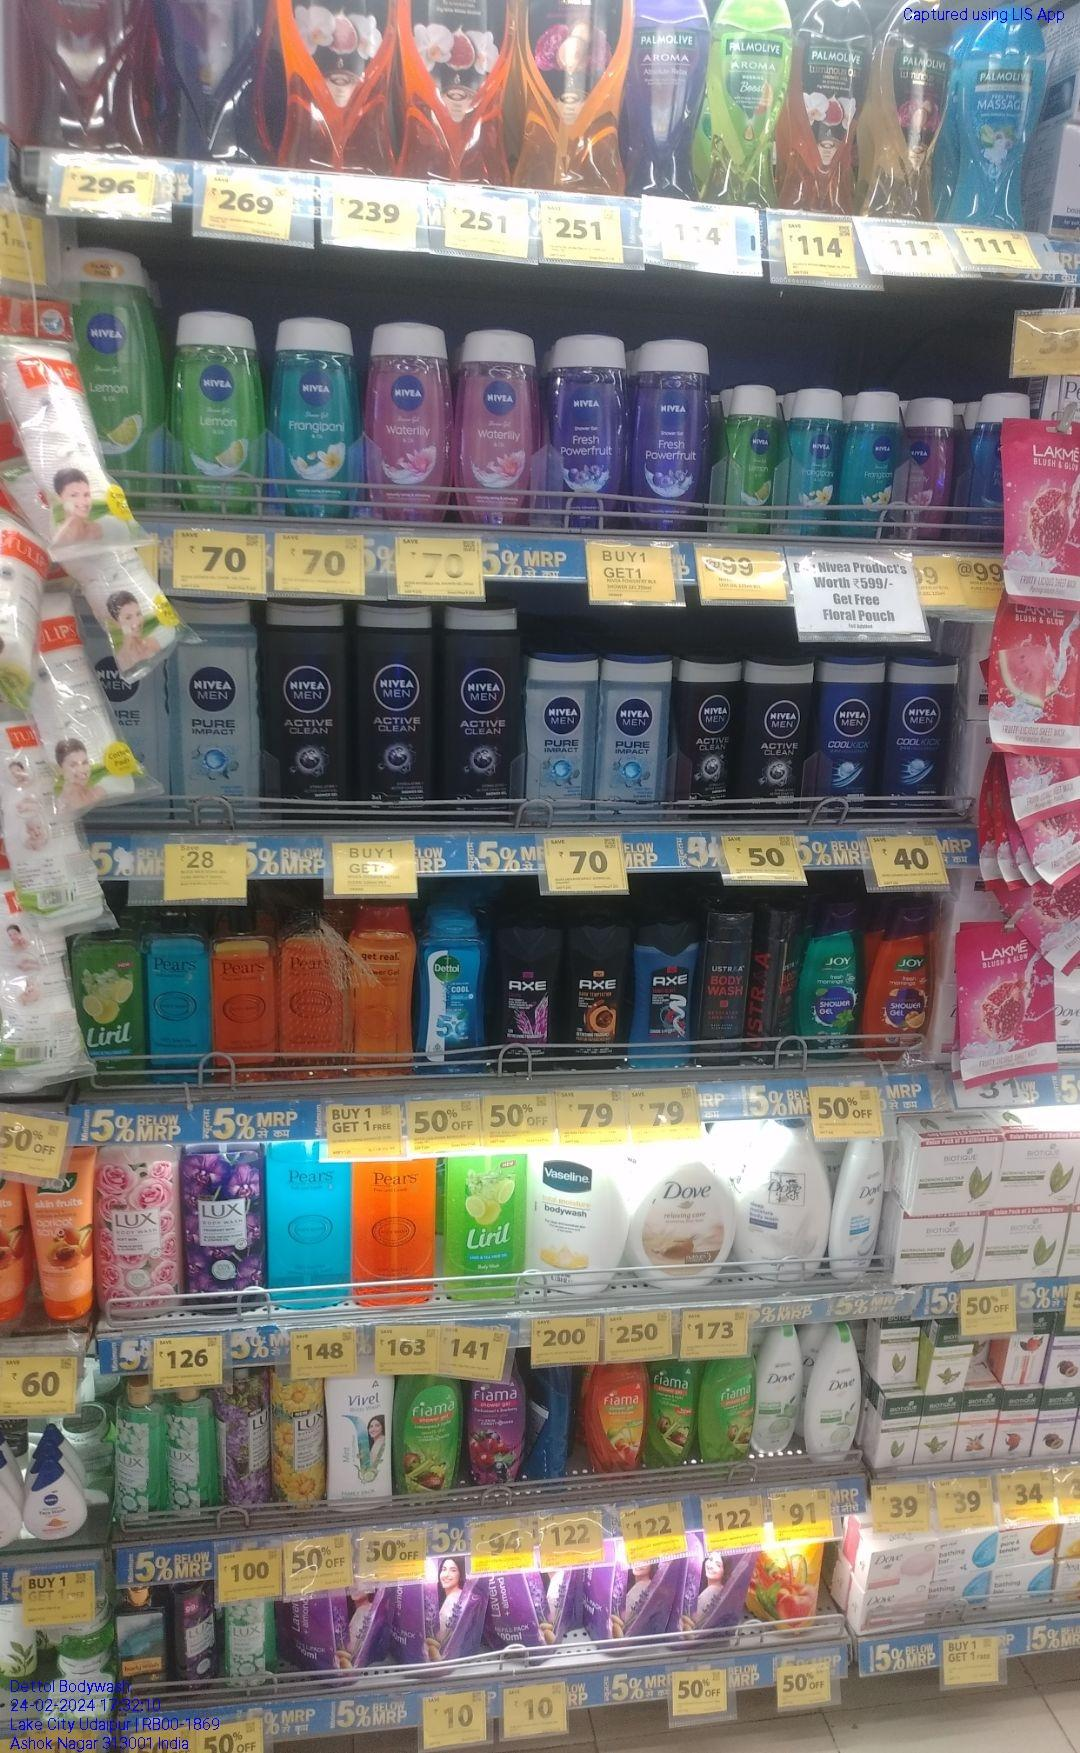Dettol_Bodywash_Cool: (420, 904, 488, 1068)
Dove_Refreshing_Body_Wash_250ML: (806, 1327, 857, 1459), (757, 1327, 801, 1459)
Fiama_Shower_Gel_Lemongrass_and_Jojoba_250ML: (702, 1357, 755, 1464), (647, 1356, 696, 1461)
Fiama_Shower_Gel_Peach_and_Avocado_250ML: (591, 1362, 644, 1471)
Get_Real_Shower_Gel_Moisturising_Glycerin_300ML: (352, 904, 412, 1073)
Joy_Shower_Gel_Mandarin_and_Lemongrass_250ML: (871, 908, 931, 1062)
Joy_Shower_Gel_Mint_and_Eucalyptus_250ML: (800, 905, 861, 1059)
Liril_Lime_and_Tea_Tree_Oil_Body_Wash_250ML: (71, 915, 144, 1079)
Lux_Body_Wash_Skin_Detox_Freesia_Scent_and_Alove_Vera_245ML: (165, 1389, 218, 1509), (114, 1384, 160, 1519)
Nivea_Shower_Gel_Frangipani_and_Oil_250ML: (274, 312, 358, 517)
Nivea_Shower_Gel_Fresh_Powerfruit_250ML: (549, 334, 627, 528), (637, 338, 712, 530)
Nivea_Shower_Gel_Lemon_and_Oil_250ML: (69, 247, 159, 506), (170, 311, 259, 512)
Nivea_Shower_Gel_Waterlily_and_Oil_250ML: (367, 322, 456, 520), (459, 327, 542, 520)
Palmolive_Aroma_Moments_Feel_The_Massage_Shower_Gel_250ML: (962, 9, 1046, 228)
Palmolive_Aroma_Morning_Tonic_Shower_Gel_250ML: (712, 1, 792, 208)
Palmolive_Aroma_Relax_250ML: (629, 3, 708, 195)
Palmolive_Luminous_Oils_Invigorating_Macadamia_Oil_With_Peony_250ML: (876, 0, 952, 222)
Palmolive_Luminous_Oils_With_White_Orchid_Shower_Gel_250ML: (795, 0, 865, 213)
Pears_Pure_Glycerin_and_Mint_Extracts_Body_Wash_250ML: (148, 913, 211, 1071)
